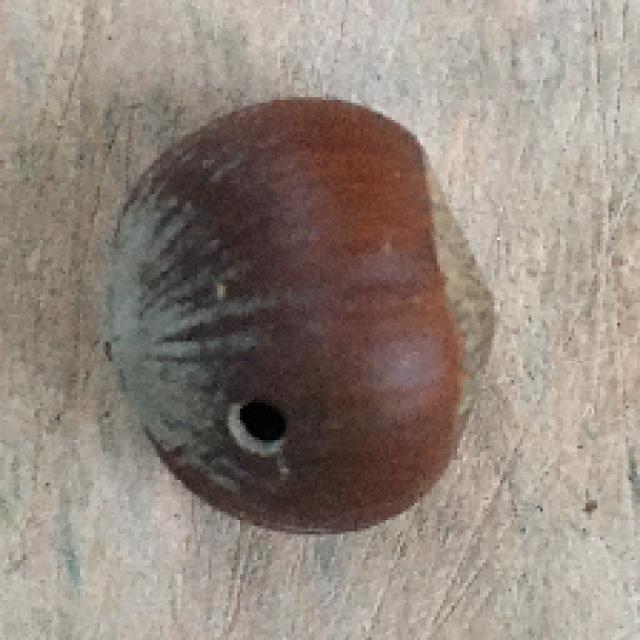DamagedHazelnut: (102, 95, 505, 518)
